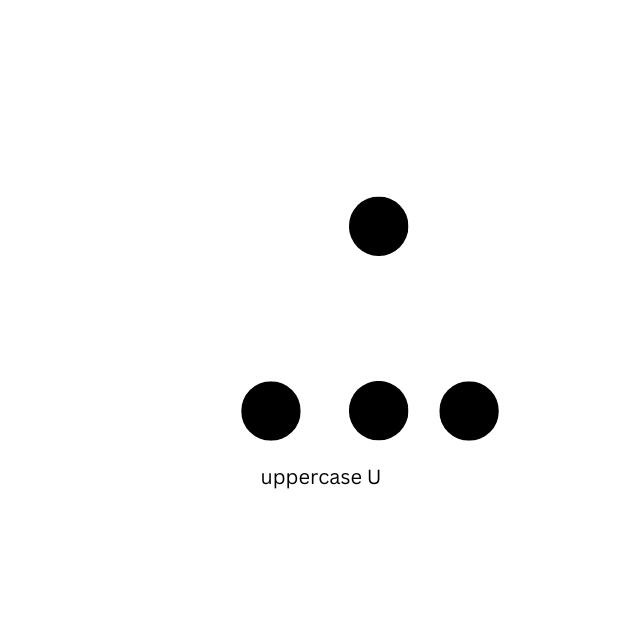capital_sign: (153, 191, 301, 441)
letter_U: (348, 195, 496, 445)
